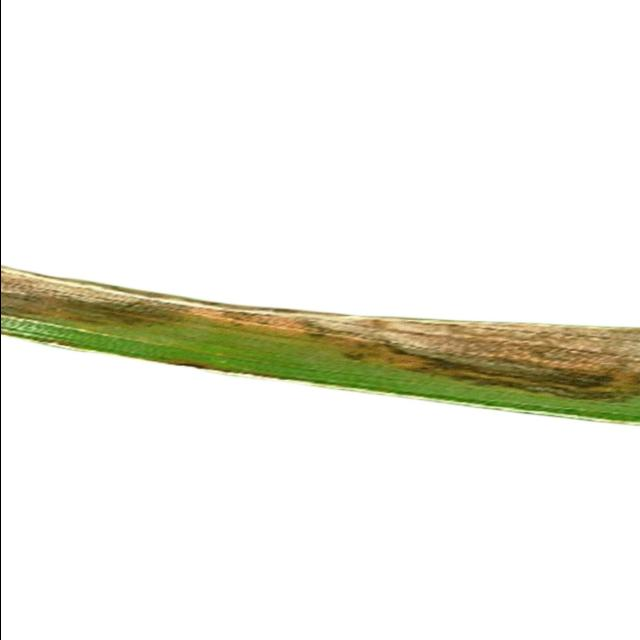Leaf scald: (0, 103, 640, 482)
